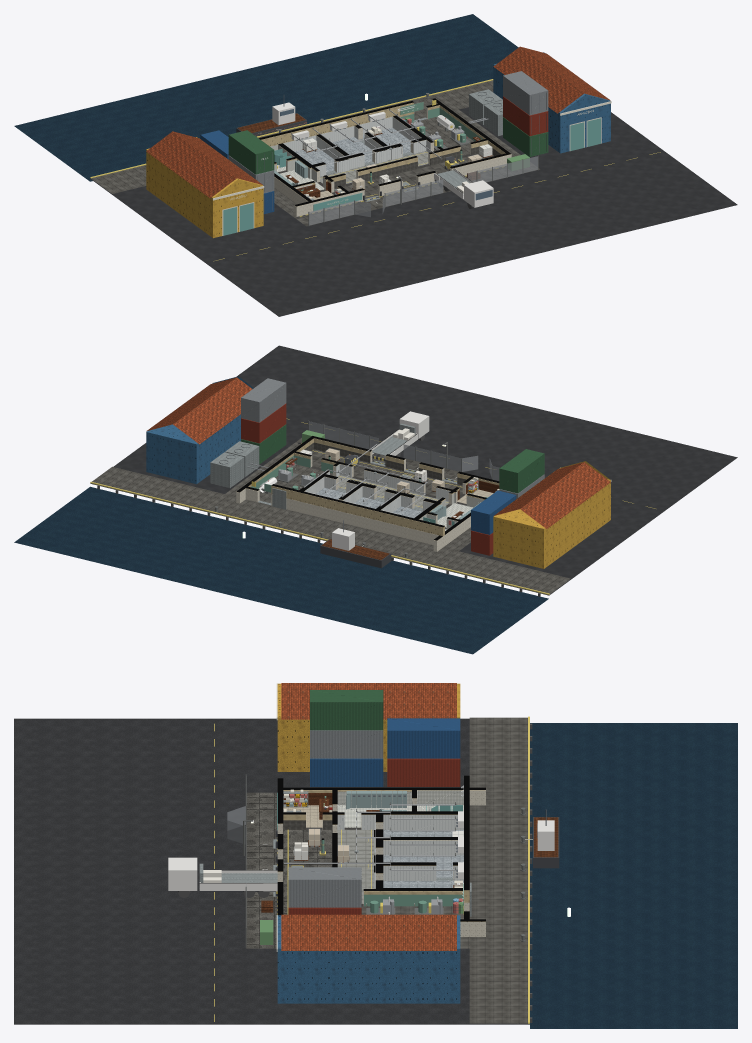
The model's file is caju.glb.
3 views of the same model, one above another, from view 1: azimuth 30°, elevation 25°; view 2: azimuth 150°, elevation 25°; view 3: azimuth 270°, elevation 25° (orthographic). The views are drawn at different scales.
Visible parts, largest first — view 1: Lapa_asphalt, Lapa_bay, Lapa_side_roof, Lapa_concrete, Lapa_side_facade_yellow, Lapa_oil_concrete, Lapa_cap, Lapa_chainlink, Lapa_isopainel, Lapa_container_green, Lapa_side_facade_blue, Lapa_whitewash (+19 smaller); view 2: Lapa_asphalt, Lapa_bay, Lapa_concrete, Lapa_side_roof, Lapa_side_facade_yellow, Lapa_side_facade_blue, Lapa_whitewash, Lapa_metal, Lapa_plaster, Lapa_cap, Lapa_container_green, Lapa_chainlink (+15 smaller); view 3: Lapa_asphalt, Lapa_bay, Lapa_concrete, Lapa_side_roof, Lapa_side_facade_blue, Lapa_oil_concrete, Lapa_container_grey, Lapa_container_blue, Lapa_cap, Lapa_isopainel, Lapa_container_green, Lapa_white (+19 smaller).
Boxes of the visible parts, bbox=[...] form: Lapa_asphalt: bbox=[90, 107, 737, 316]; Lapa_bay: bbox=[14, 14, 518, 181]; Lapa_side_roof: bbox=[146, 46, 610, 198]; Lapa_concrete: bbox=[91, 80, 520, 217]; Lapa_side_facade_yellow: bbox=[146, 137, 263, 238]; Lapa_oil_concrete: bbox=[295, 153, 539, 226]; Lapa_cap: bbox=[259, 98, 510, 206]; Lapa_chainlink: bbox=[309, 156, 537, 225]; Lapa_isopainel: bbox=[283, 116, 439, 181]; Lapa_container_green: bbox=[228, 117, 548, 174]; Lapa_side_facade_blue: bbox=[493, 52, 610, 153]; Lapa_whitewash: bbox=[274, 99, 511, 217]; Lapa_asphalt: bbox=[90, 345, 737, 595]; Lapa_bay: bbox=[14, 486, 548, 654]; Lapa_concrete: bbox=[92, 442, 570, 593]; Lapa_side_roof: bbox=[146, 377, 610, 528]; Lapa_side_facade_yellow: bbox=[493, 461, 610, 568]; Lapa_side_facade_blue: bbox=[146, 376, 253, 484]; Lapa_whitewash: bbox=[236, 451, 470, 551]; Lapa_metal: bbox=[210, 423, 496, 511]; Lapa_plaster: bbox=[236, 438, 499, 540]; Lapa_cap: bbox=[236, 429, 499, 540]; Lapa_container_green: bbox=[241, 424, 544, 493]; Lapa_chainlink: bbox=[309, 421, 499, 480]; Lapa_asphalt: bbox=[14, 718, 529, 1024]; Lapa_bay: bbox=[530, 723, 737, 1028]; Lapa_concrete: bbox=[283, 717, 527, 1023]; Lapa_side_roof: bbox=[281, 683, 456, 950]; Lapa_side_facade_blue: bbox=[277, 915, 460, 1003]; Lapa_oil_concrete: bbox=[246, 792, 332, 948]; Lapa_container_grey: bbox=[288, 730, 383, 907]; Lapa_container_blue: bbox=[310, 718, 460, 786]; Lapa_cap: bbox=[200, 775, 485, 921]; Lapa_isopainel: bbox=[337, 815, 463, 887]; Lapa_container_green: bbox=[310, 690, 383, 730]; Lapa_white: bbox=[168, 806, 554, 914].
Size of the model in its own units: 60 by 8.2 by 60.
58 materials, 23 textured.
